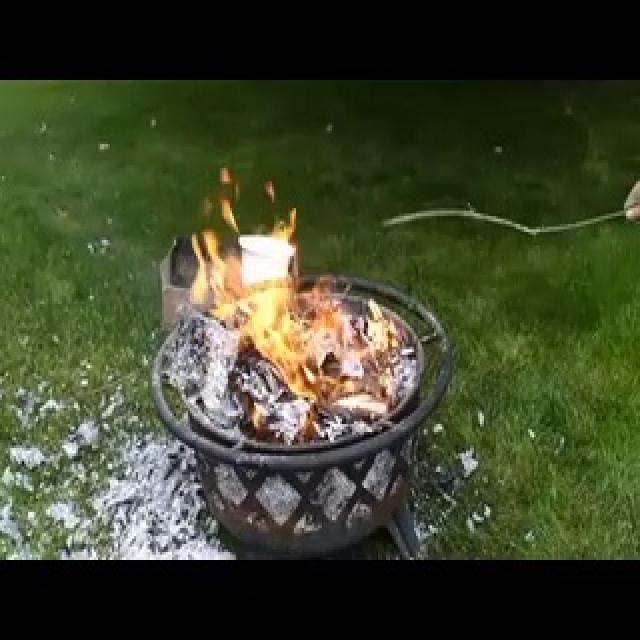fire: (124, 105, 400, 420)
